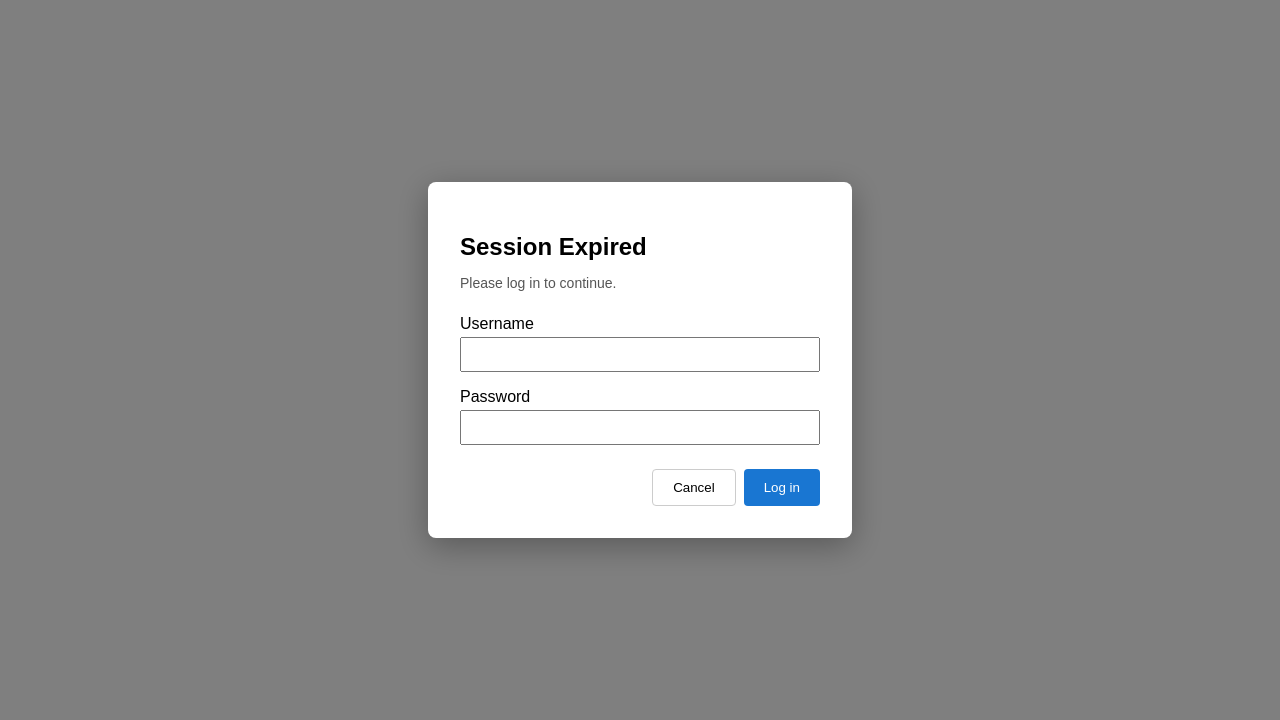
Scenario: ReauthModal › shows account-disabled error
Type "alice" into the field labelled "Username". click: {"x": 640, "y": 355}
box: [460, 338, 820, 372]
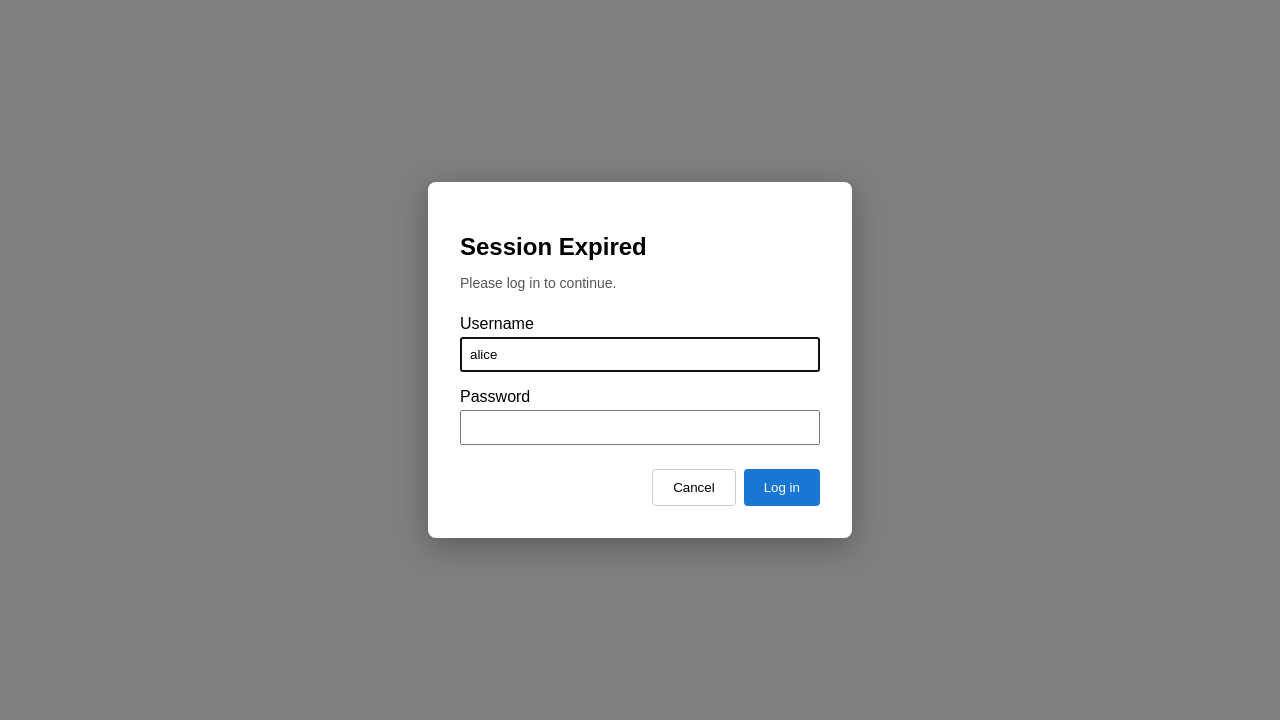
Type "x" into the password field labelled "Password". click: {"x": 640, "y": 428}
box: [460, 410, 820, 446]
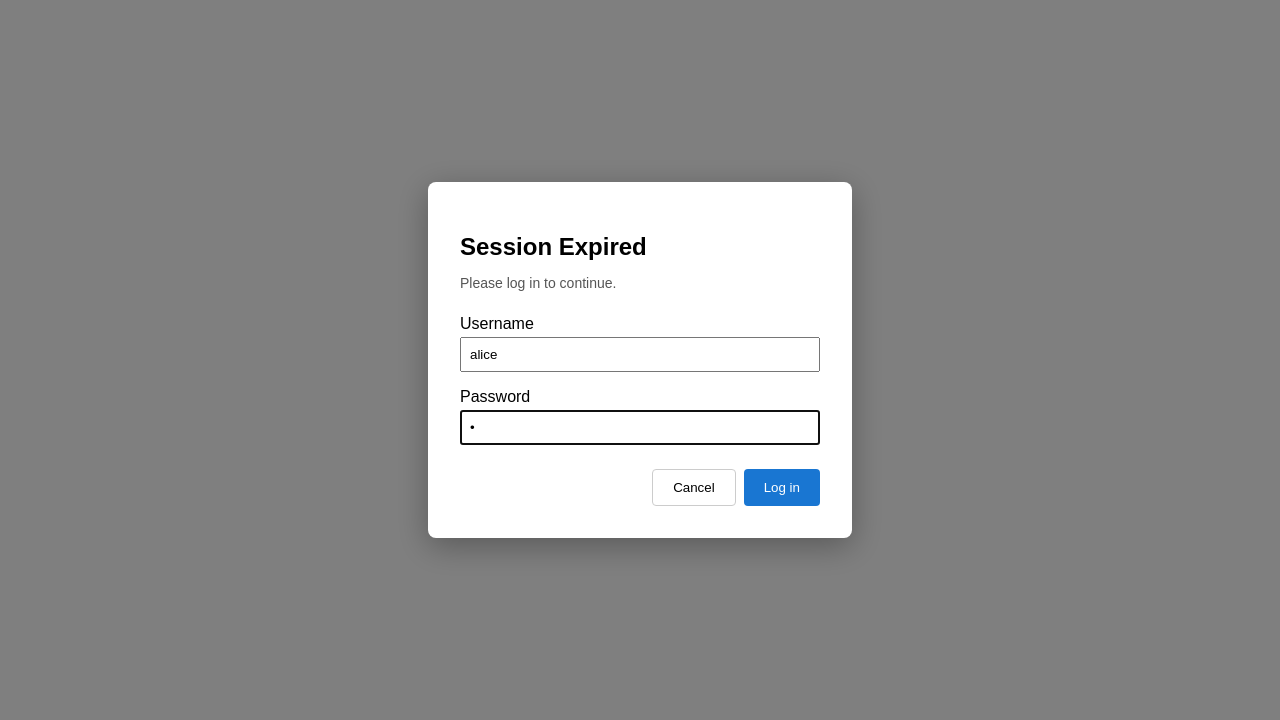
Click the button "Log in". click: {"x": 782, "y": 488}
box: [744, 470, 820, 506]
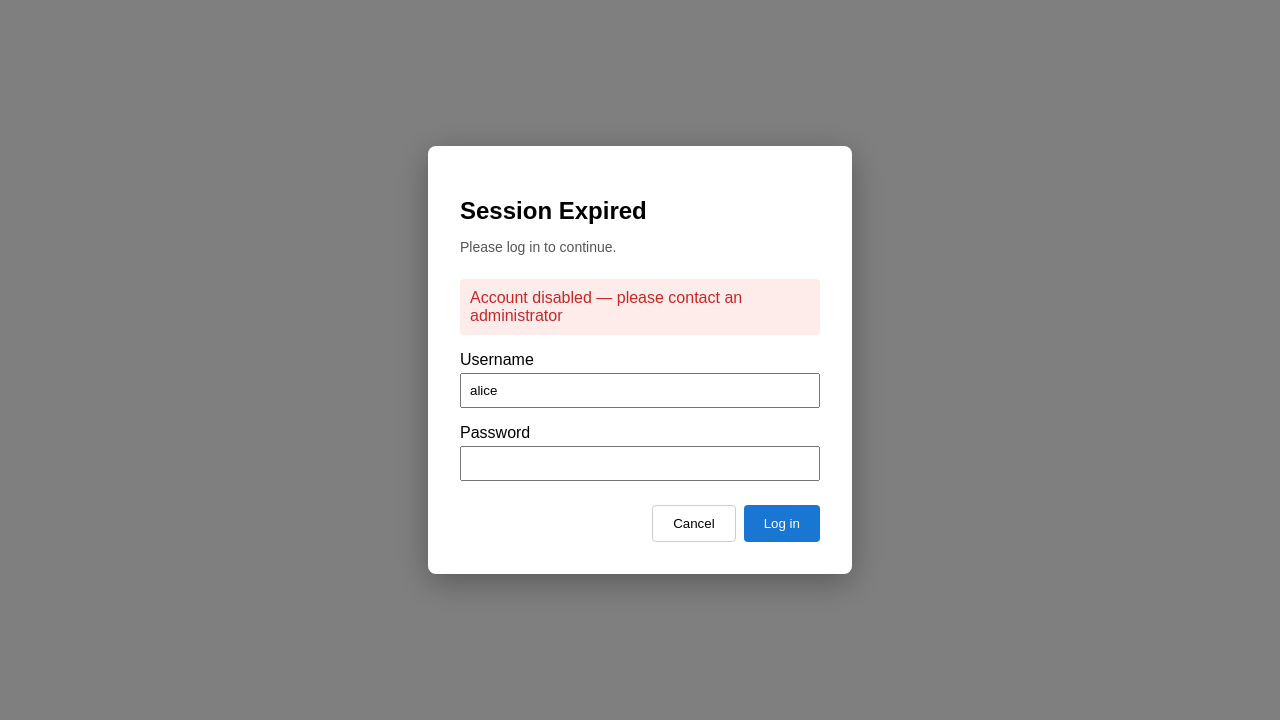
Now the message shows "Account disabled", box [470, 290, 742, 324]
